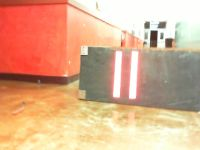switch: (128, 51, 139, 100), (112, 51, 123, 98)
